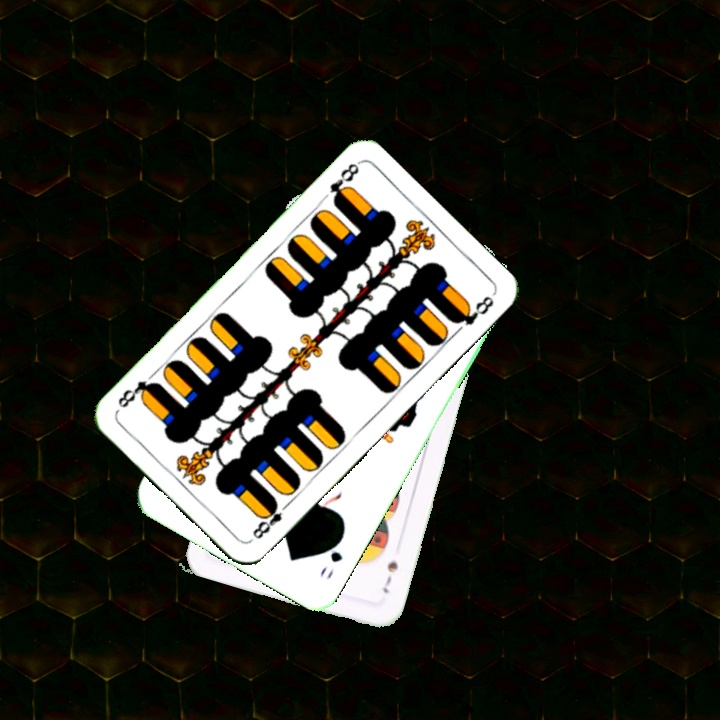E8: (248, 497, 293, 542), (326, 159, 362, 208)
GO: (315, 531, 347, 582)
S7: (378, 557, 401, 596)
